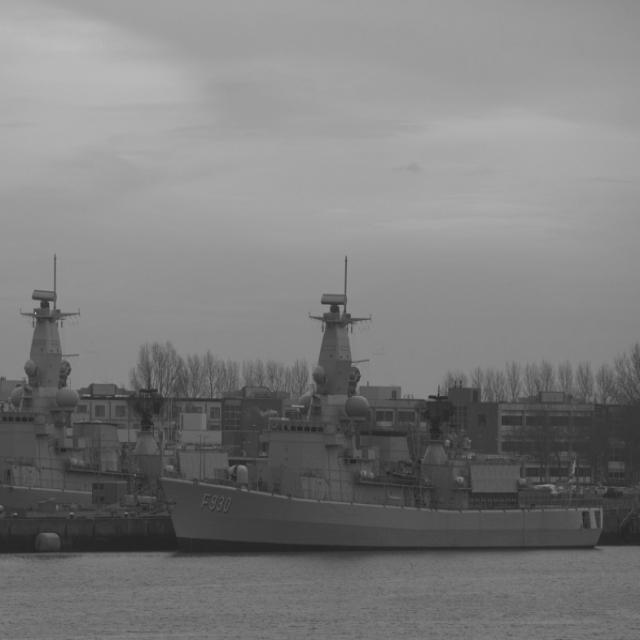Fragata: (157, 295, 606, 565)
